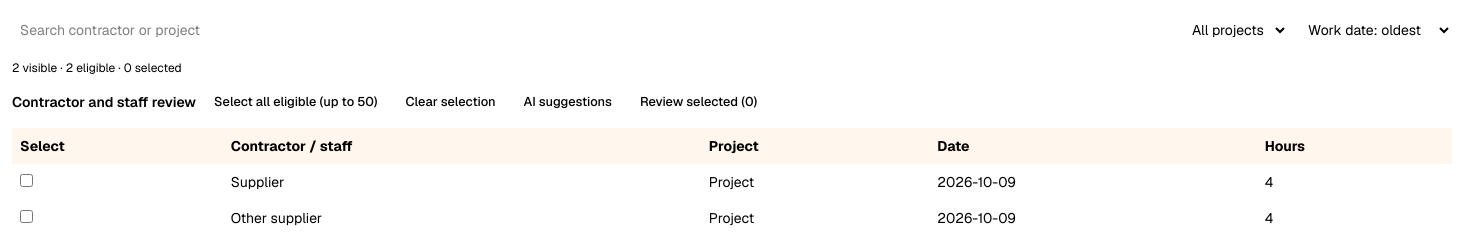
Test case: selects only visible eligible rows after searching
Type "Other" into the field named "Search review queue".
click(592, 30); type("Other")  # box x1=12 y1=12 x2=1172 y2=48
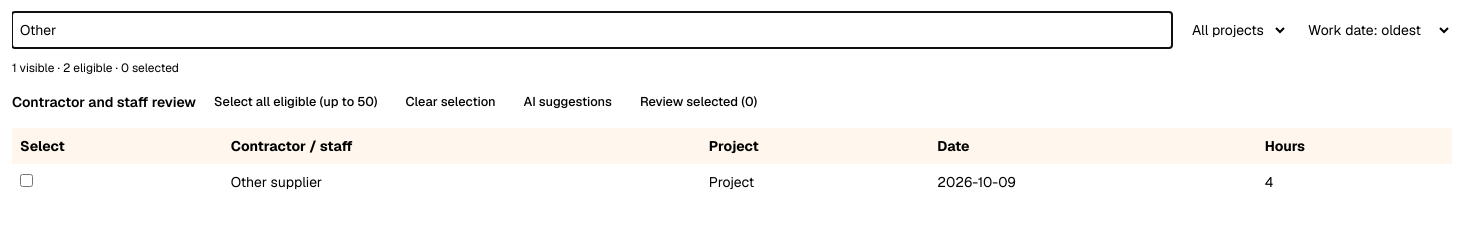
Click the button "Select all eligible (up to 50)".
click(296, 102)  # box x1=204 y1=88 x2=388 y2=116
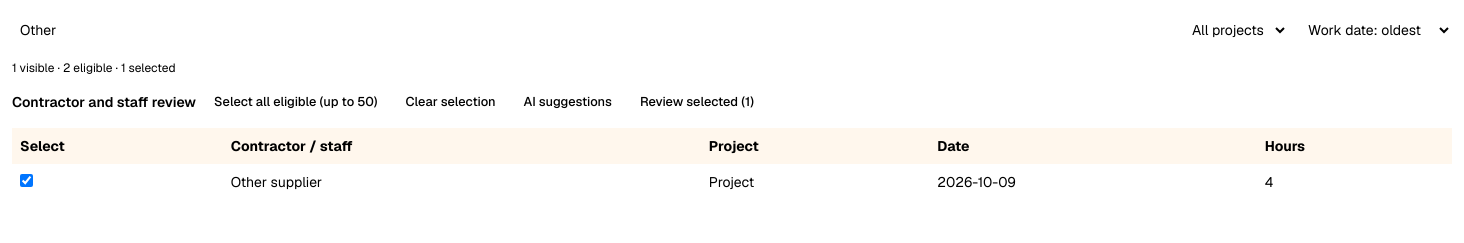
expect the button "Review selected (1)" is enabled: met, box x1=630 y1=88 x2=764 y2=116
